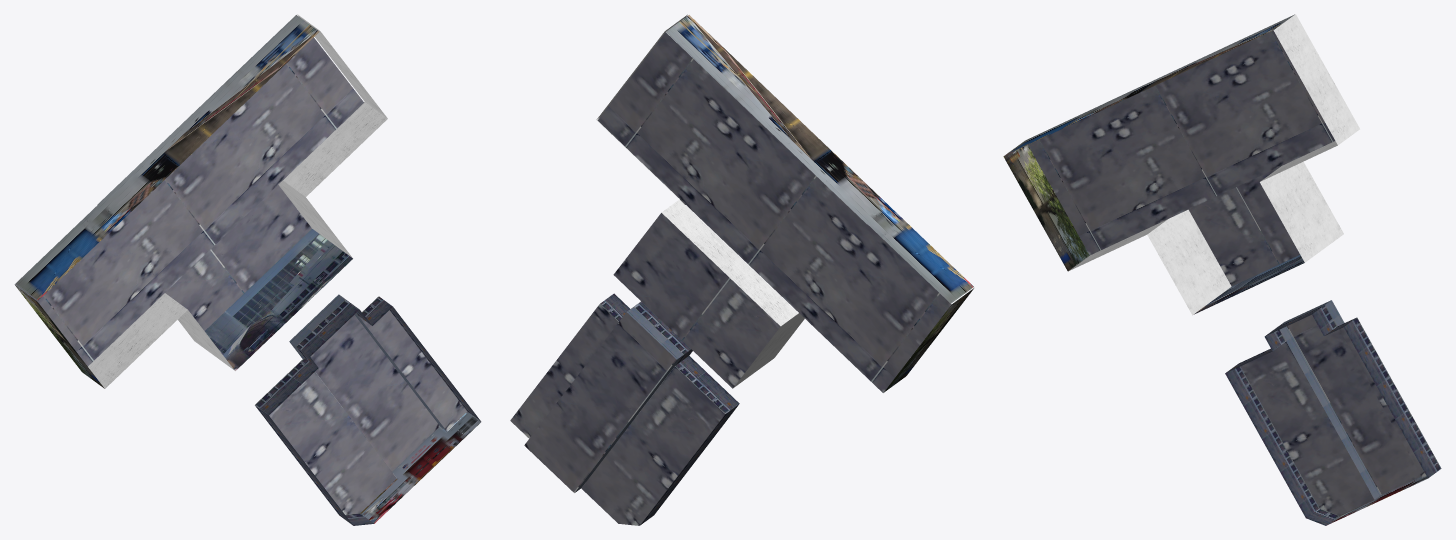
File: FDNY_Model.fbx
3 renders of one model, left to right at view 1: azimuth 30°, elevation 25°; view 2: azimuth 150°, elevation 25°; view 3: azimuth 330°, elevation 25°, orthographic. The views are drawn at different scales.
Visible parts, largest first — view 1: Roof, Fire3_2, Concrete, Fire2_2, FireWall_2, FDNY_2, Fire4_2; view 2: Roof, Fire3_2, Concrete, FireWall_2, Fire4_2; view 3: Roof, Concrete, FireWall_2, Fire4_2, Fire3_2, Fire2_2.
Part boxes in pixels (x1=…): Roof: x1=14, y1=37, x2=466, y2=514; Fire3_2: x1=15, y1=15, x2=319, y2=300; Concrete: x1=88, y1=14, x2=387, y2=388; Fire2_2: x1=204, y1=229, x2=352, y2=370; FireWall_2: x1=255, y1=294, x2=480, y2=525; FDNY_2: x1=360, y1=411, x2=480, y2=523; Fire4_2: x1=15, y1=285, x2=104, y2=388; Roof: x1=510, y1=32, x2=951, y2=525; Fire3_2: x1=666, y1=15, x2=973, y2=303; Concrete: x1=596, y1=14, x2=804, y2=387; FireWall_2: x1=575, y1=293, x2=739, y2=525; Fire4_2: x1=884, y1=288, x2=973, y2=392; Roof: x1=1028, y1=15, x2=1425, y2=515; Concrete: x1=1068, y1=14, x2=1359, y2=314; FireWall_2: x1=1225, y1=300, x2=1441, y2=525; Fire4_2: x1=1003, y1=142, x2=1089, y2=271; Fire3_2: x1=1005, y1=14, x2=1294, y2=155; Fire2_2: x1=1193, y1=255, x2=1304, y2=314.
Size of the model in its own units: 801 by 129 by 872.
Materials: 7 (7 with a texture image).
